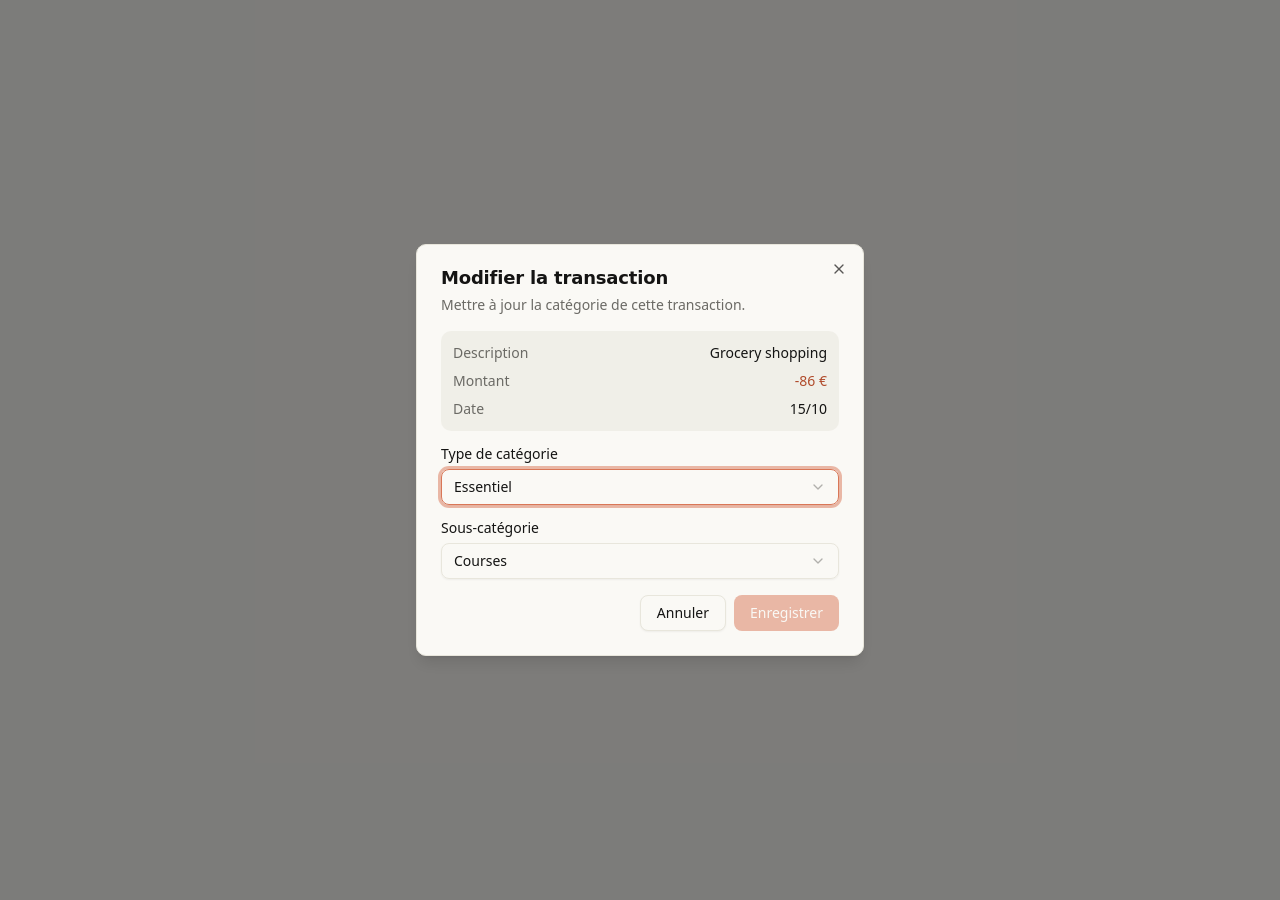
Test case: TransactionEditModal › Type Change Updates Subcategory › updates subcategory options when type changes from CORE to CHOICE
Click the dropdown named "Type de catégorie" at (483, 486), box [441, 469, 839, 505]
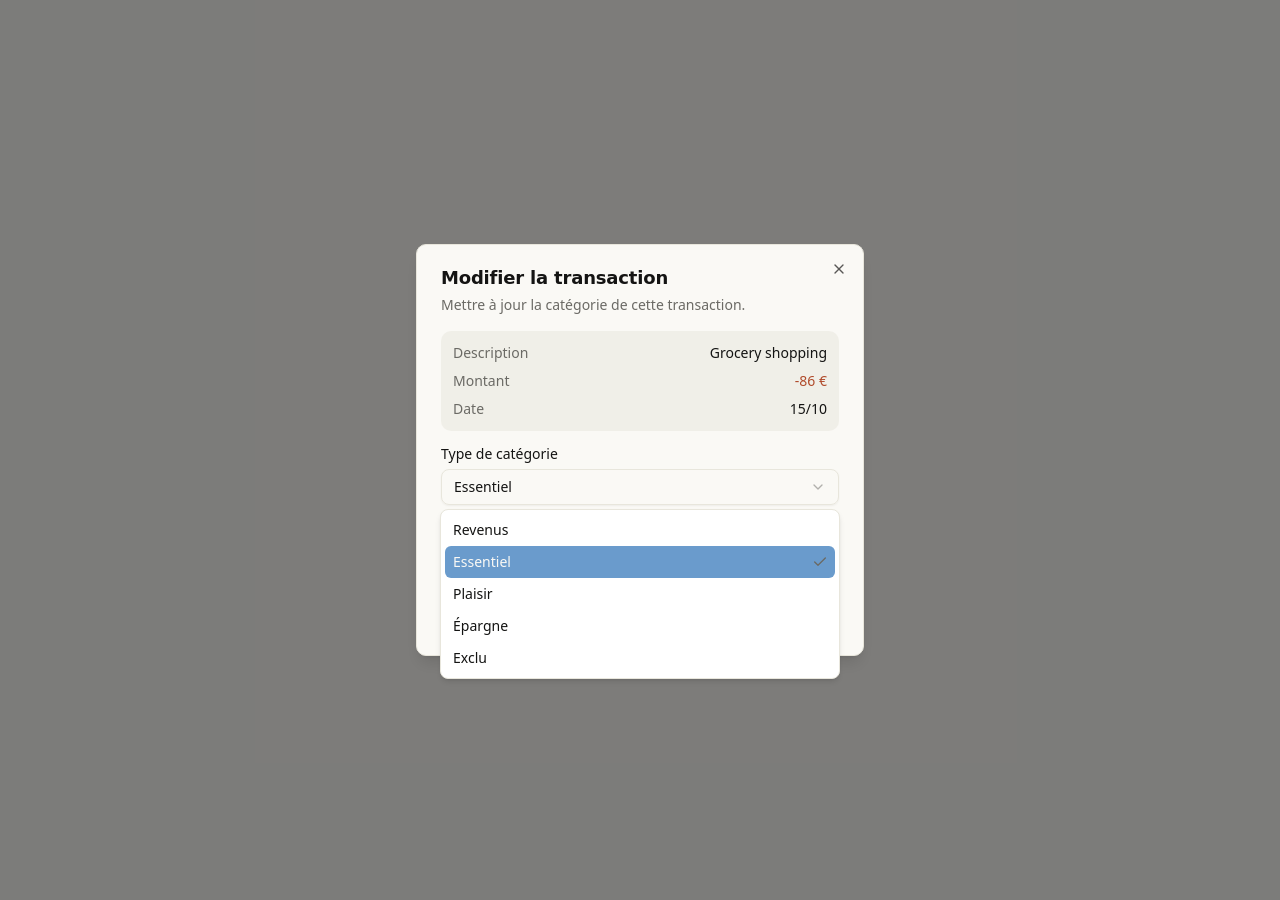
Click the option "Plaisir" at (473, 594), box [453, 584, 493, 603]
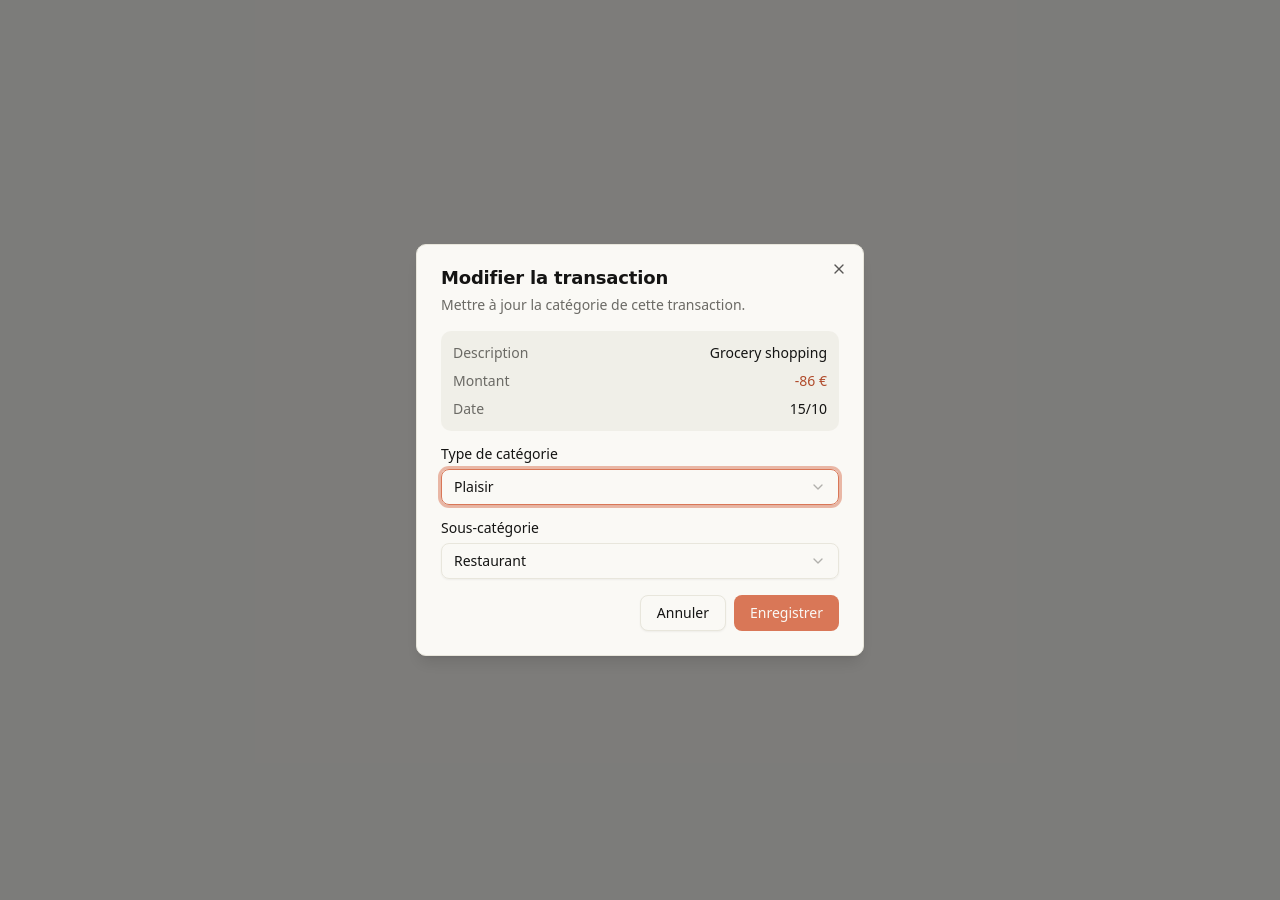
Click the dropdown named "Sous-catégorie" at (490, 560), box [441, 543, 839, 579]
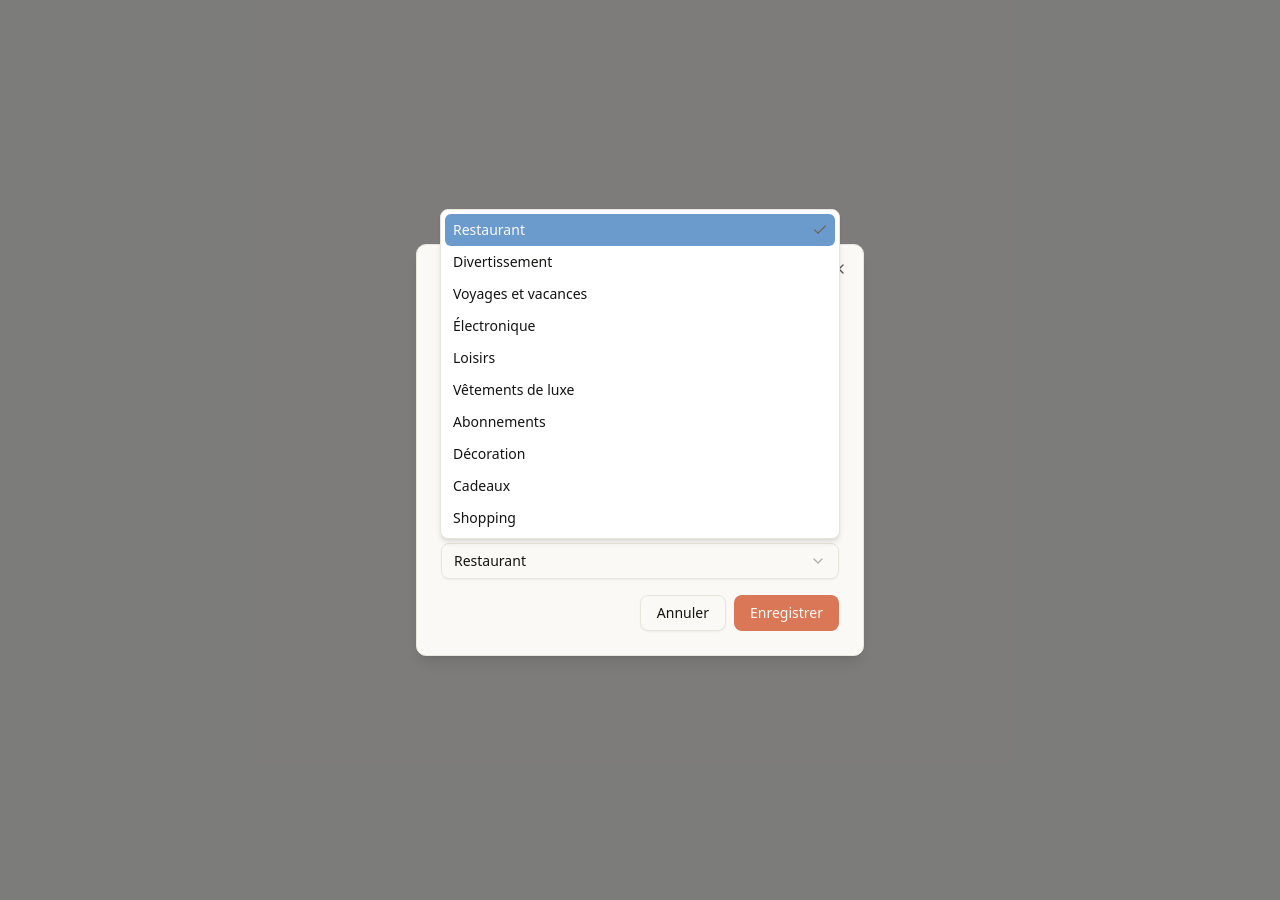
expect the option "Restaurant" is shown: met, box [445, 214, 835, 246]
expect the option "Divertissement" is shown: met, box [453, 252, 552, 271]
